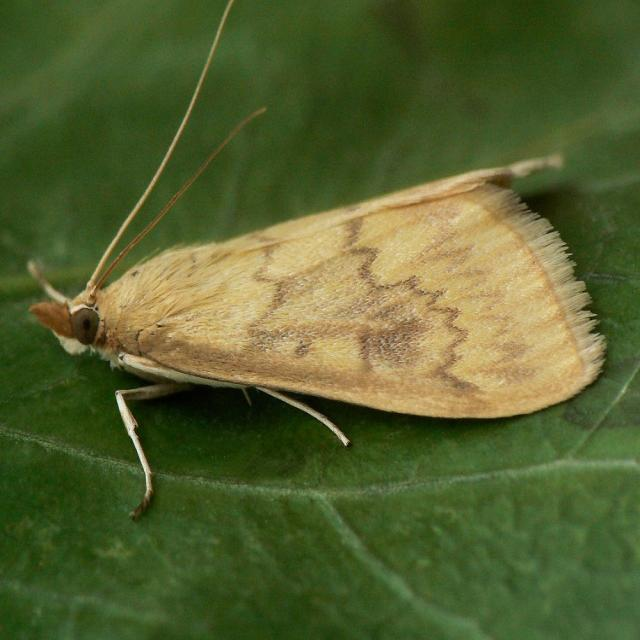cornborer-Adult-: (29, 132, 623, 514)
